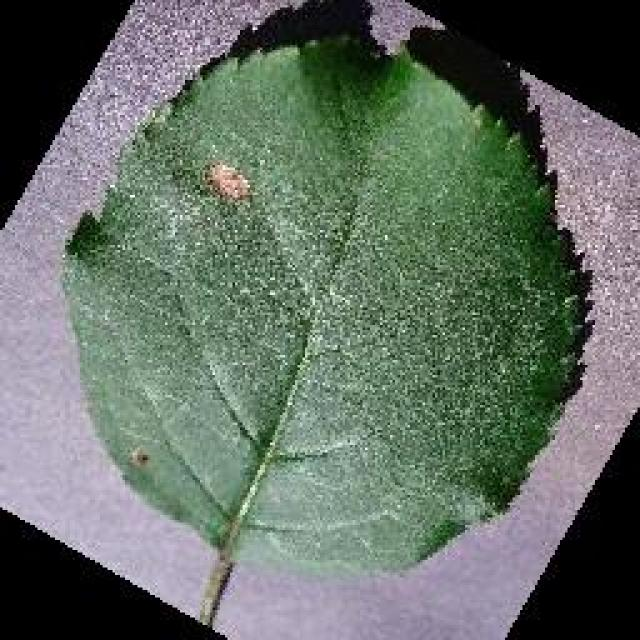Black_rot: (58, 25, 592, 580)
